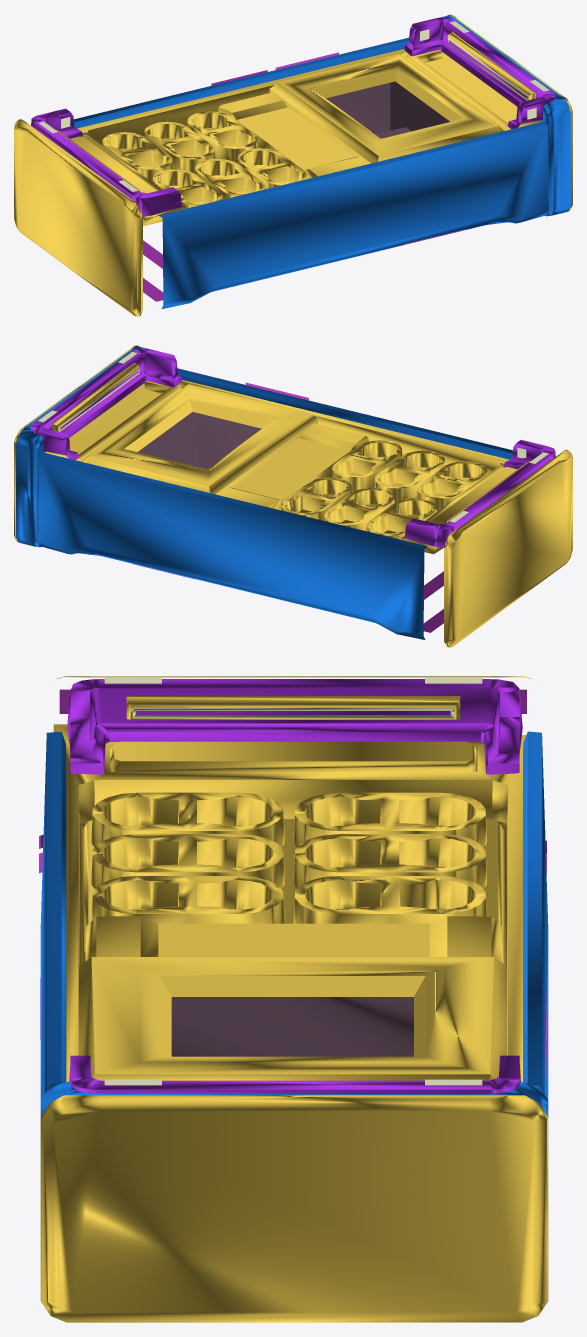
File: ammo-box_1_grenade_open_1x05x025_a_lod1.glb
3 renders of one model, top to bottom at view 1: azimuth 30°, elevation 25°; view 2: azimuth 150°, elevation 25°; view 3: azimuth 270°, elevation 25°, orthographic. The views are drawn at different scales.
Size of the model in its own units: 0.9992 by 0.2537 by 0.502.
